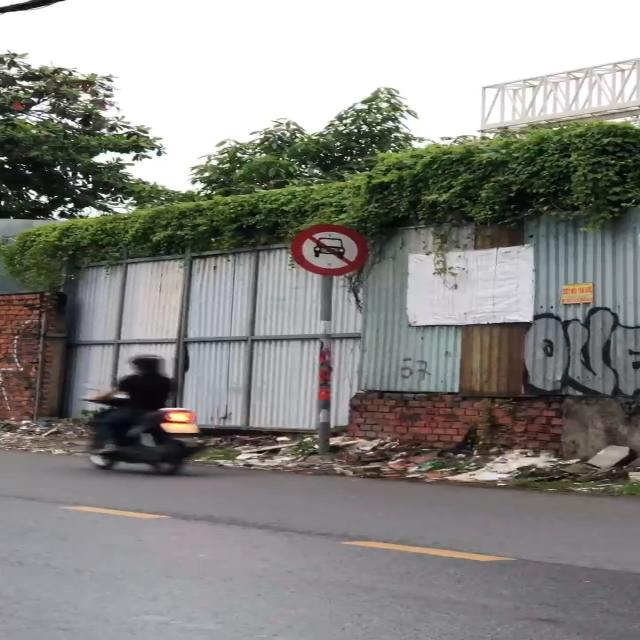Bien bao cam xe oto: (285, 221, 371, 275)
